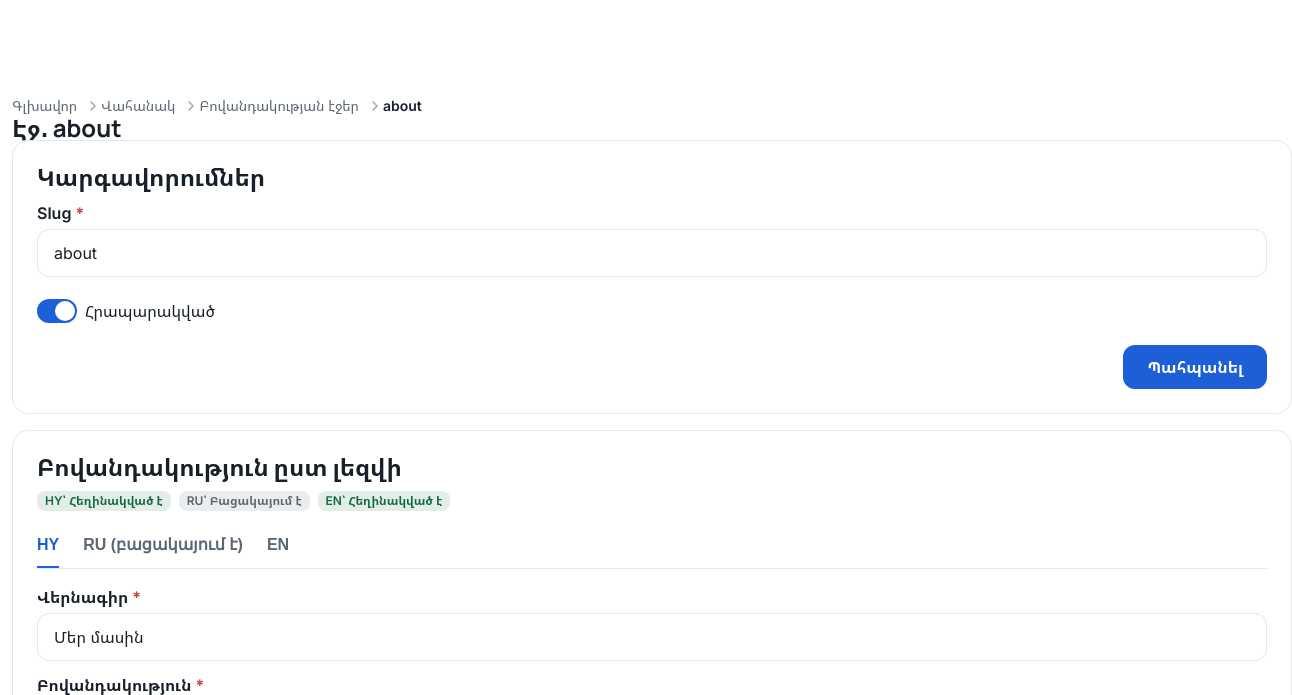
Test: AdminCmsDetailContent (apps/web/src/modules/admin) › a locale with no saved translation (RU) is clearly marked missing on its tab, its status badge, and inside its own panel
Expected: the field showing "about" is shown, [54,230,1250,276]
Expected: the text "HY՝ Հեղինակված է" is shown, [37,491,171,511]
What coordinates should you click on to do the following:
click the tab "RU (բացակայում է)"
I would click on:
 (163, 546)
Its box is [83,523,243,568].
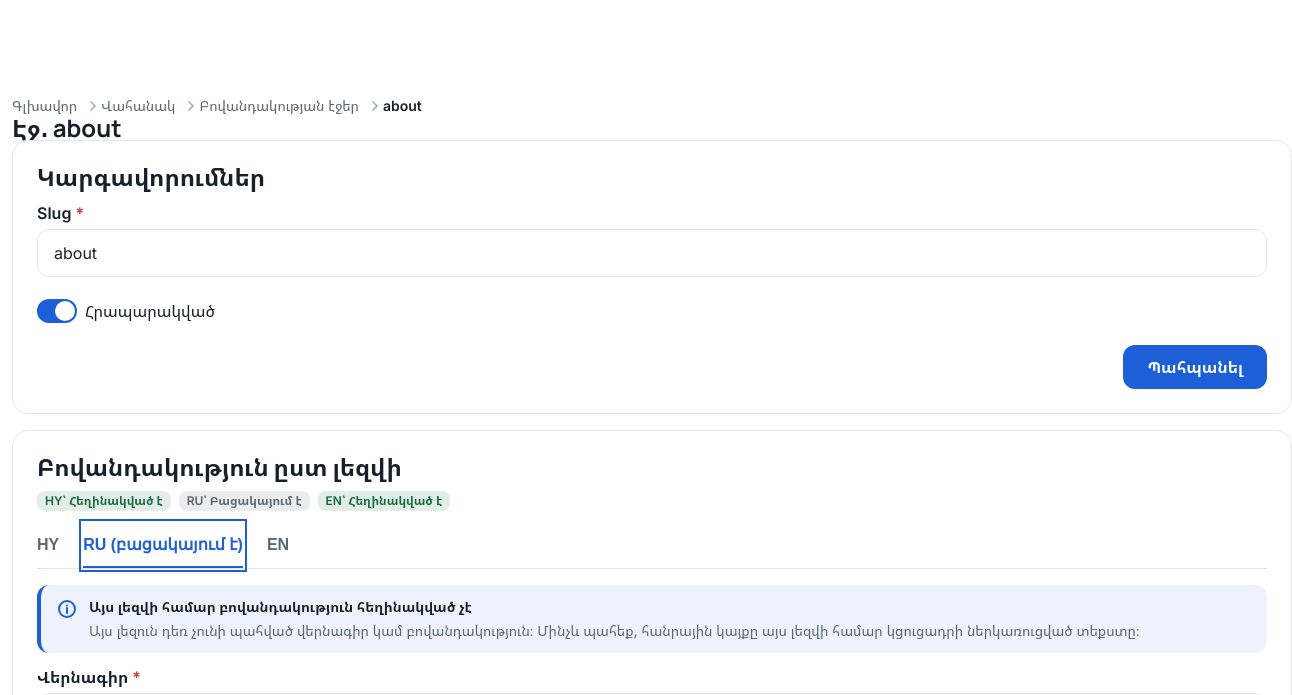
Expected: the text "Այս լեզվի համար բովանդակություն հեղինակված չէ" is shown, [89,598,472,615]
